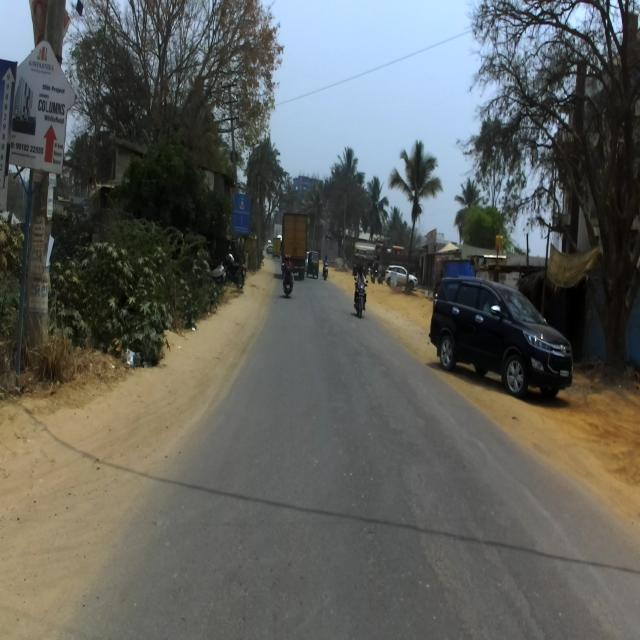car ahead at: (425, 273, 577, 398)
